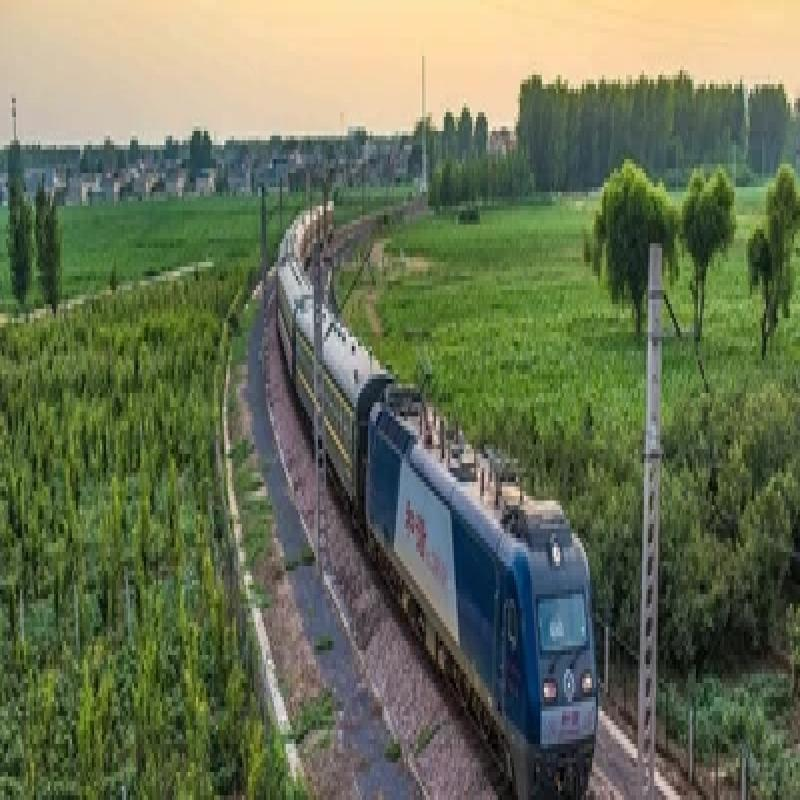train: (355, 342, 607, 787)
